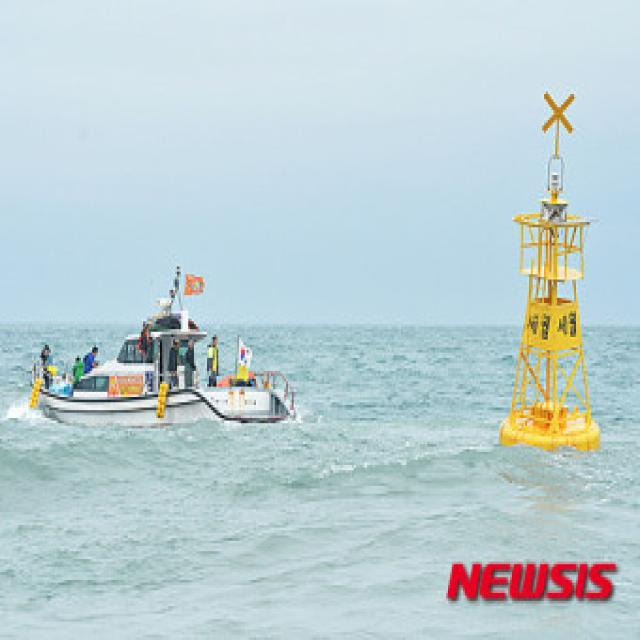2.5 sepcial mark: (494, 70, 602, 463)
